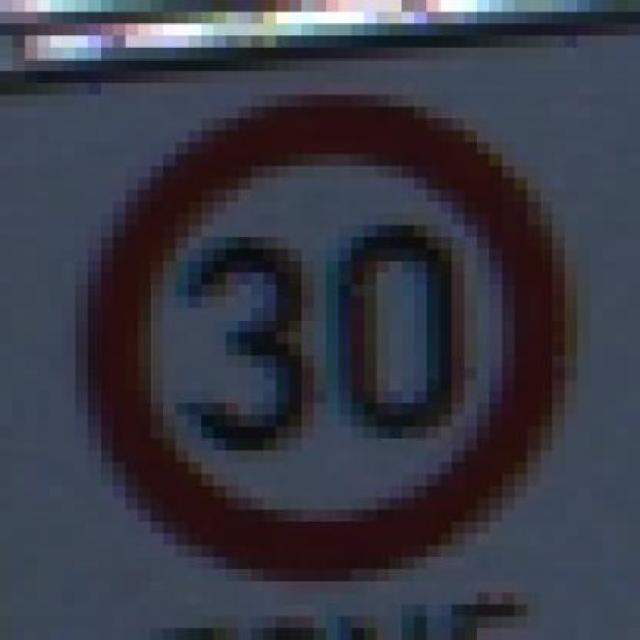Speed Limit 30 KMPh: (38, 107, 614, 593)
